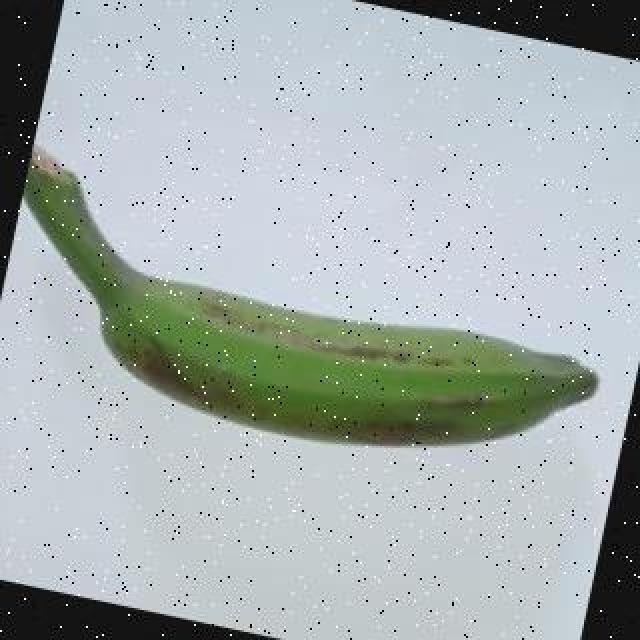Unripe: (24, 143, 600, 449)
